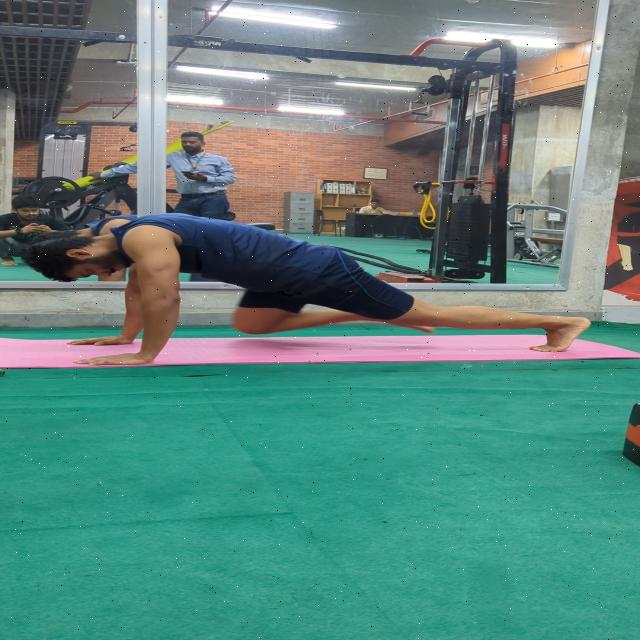Normal_MountainClimbers: (14, 191, 606, 369)
